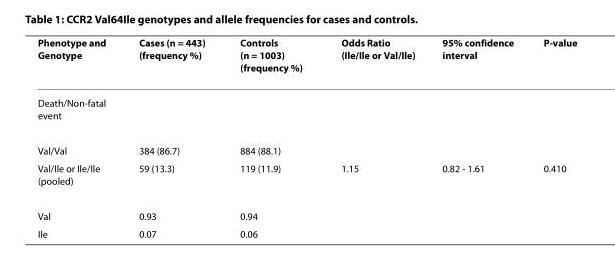table: (36, 36, 576, 239)
table column: (321, 36, 428, 239), (121, 36, 221, 239), (221, 36, 321, 239), (428, 36, 527, 239), (36, 36, 121, 239), (527, 36, 576, 239)
table column header: (36, 36, 576, 84)
table projected row header: (36, 84, 576, 132)
table row: (36, 36, 576, 84), (36, 84, 576, 132), (36, 159, 576, 198), (36, 132, 576, 159), (36, 198, 576, 224), (36, 224, 576, 239)
